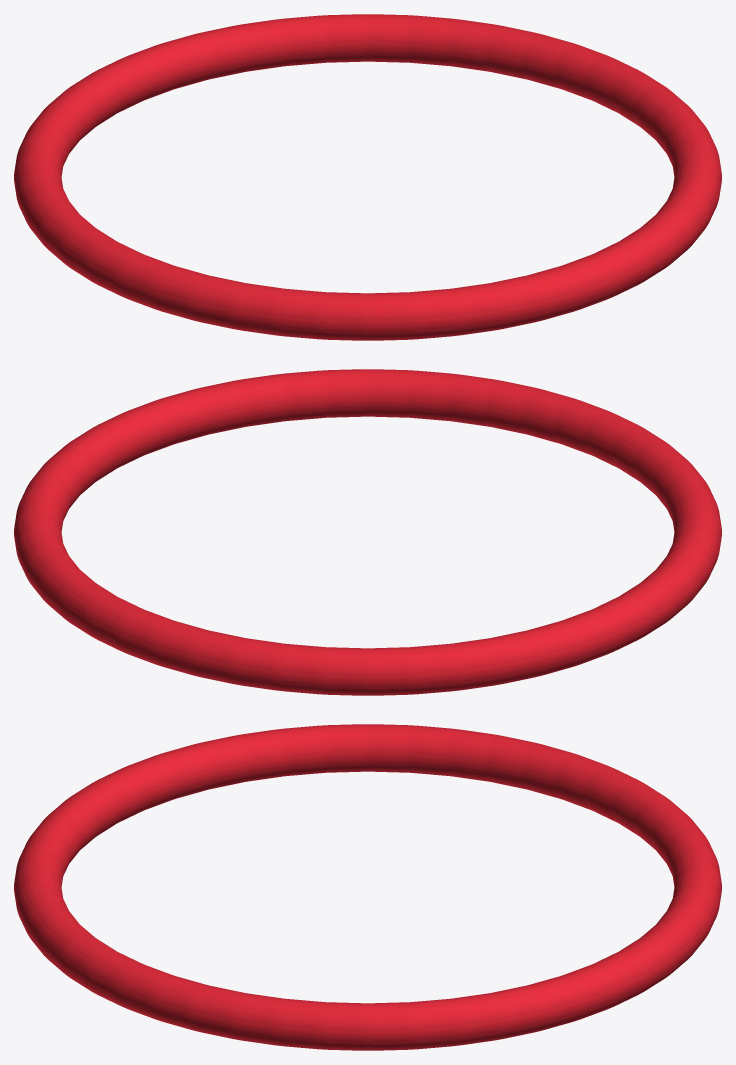
The model's file is Aro.fbx.
3 renders of one model, top to bottom at view 1: azimuth 30°, elevation 25°; view 2: azimuth 150°, elevation 25°; view 3: azimuth 270°, elevation 25°, orthographic.
Parts seen in each view (by area): view 1: Torus; view 2: Torus; view 3: Torus.
Boxes of the visible parts, left/top/right/bottom form: Torus: left=14, top=14, right=721, bottom=340; Torus: left=14, top=369, right=721, bottom=695; Torus: left=14, top=724, right=721, bottom=1050.
Size of the model in its own units: 214 by 14.4 by 214.
